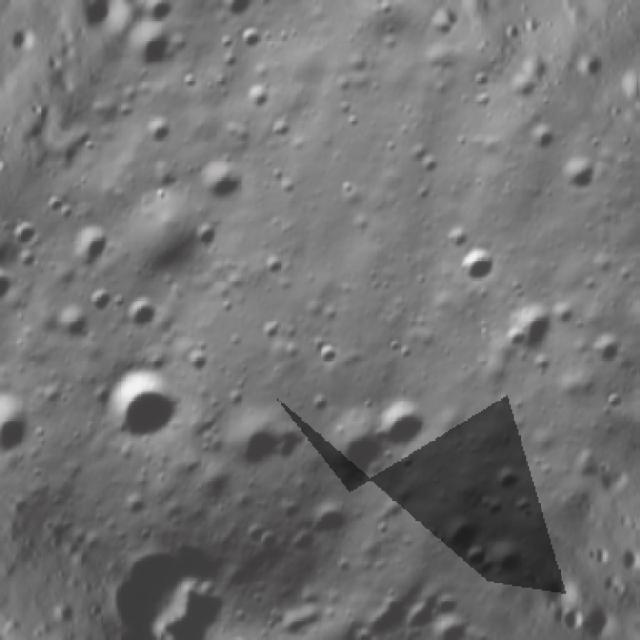crater: (86, 344, 203, 465), (210, 395, 308, 494), (308, 411, 398, 498), (486, 289, 569, 374), (112, 8, 192, 88), (440, 225, 518, 302), (372, 389, 448, 466), (544, 140, 618, 214), (189, 147, 256, 215), (0, 383, 51, 469), (575, 317, 640, 383), (58, 212, 120, 278), (435, 508, 496, 572), (117, 288, 165, 342), (204, 0, 272, 38), (49, 300, 96, 348), (0, 262, 22, 320)
